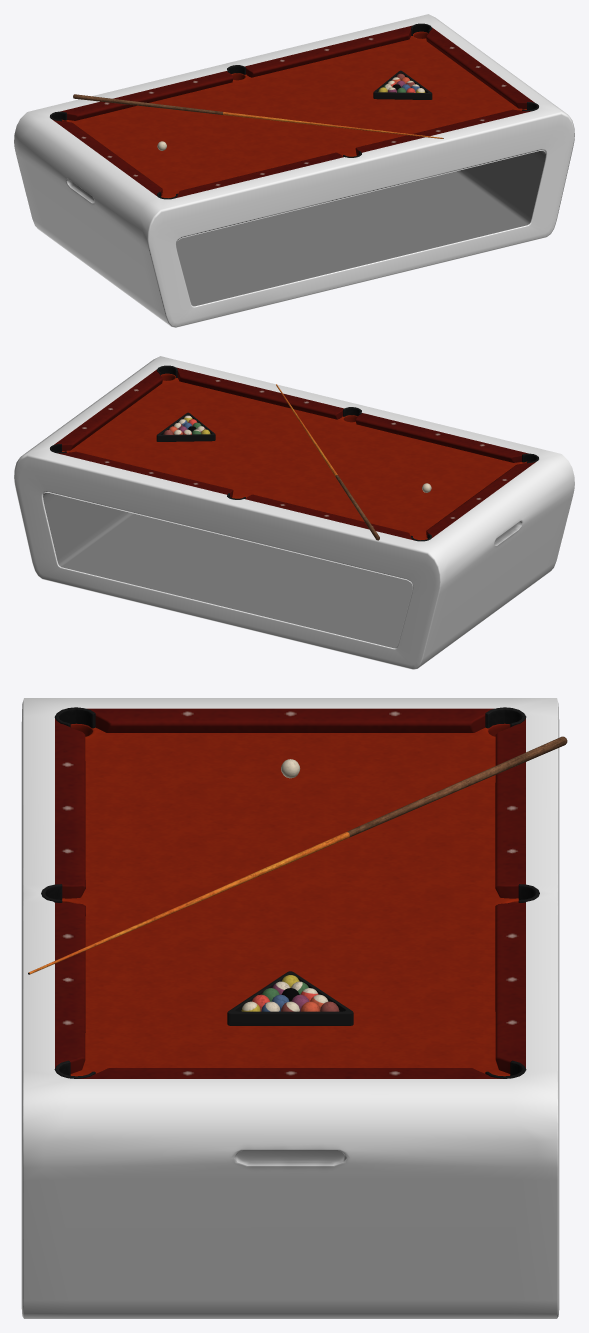
File: pool-table.glb
3 renders of one model, top to bottom at view 1: azimuth 30°, elevation 25°; view 2: azimuth 150°, elevation 25°; view 3: azimuth 270°, elevation 25°, orthographic. The views are drawn at different scales.
Visible parts, largest first — view 1: Table, BillarSurface, Bordes, Cue, Holes, Triangle; view 2: Table, BillarSurface, Bordes, Holes, Triangle, Cue; view 3: Table, BillarSurface, Bordes, Cue, Holes, Triangle.
Boxes of the visible parts, left/top/right/bottom form: Table: left=14, top=14, right=574, bottom=327; BillarSurface: left=62, top=31, right=526, bottom=198; Bordes: left=52, top=25, right=534, bottom=198; Cue: left=73, top=94, right=443, bottom=138; Holes: left=50, top=23, right=538, bottom=199; Triangle: left=373, top=70, right=432, bottom=99; Table: left=14, top=356, right=574, bottom=669; BillarSurface: left=62, top=373, right=526, bottom=540; Bordes: left=54, top=367, right=536, bottom=540; Holes: left=50, top=365, right=538, bottom=541; Triangle: left=156, top=412, right=215, bottom=441; Cue: left=276, top=384, right=379, bottom=540; Table: left=21, top=698, right=559, bottom=1318; BillarSurface: left=62, top=723, right=518, bottom=1076; Bordes: left=55, top=708, right=525, bottom=1078; Cue: left=28, top=736, right=567, bottom=974; Holes: left=41, top=707, right=539, bottom=1078; Triangle: left=227, top=971, right=353, bottom=1025.
Size of the model in its own units: 24.84 by 7.01 by 13.7.
Materials: 2 (2 with a texture image).
